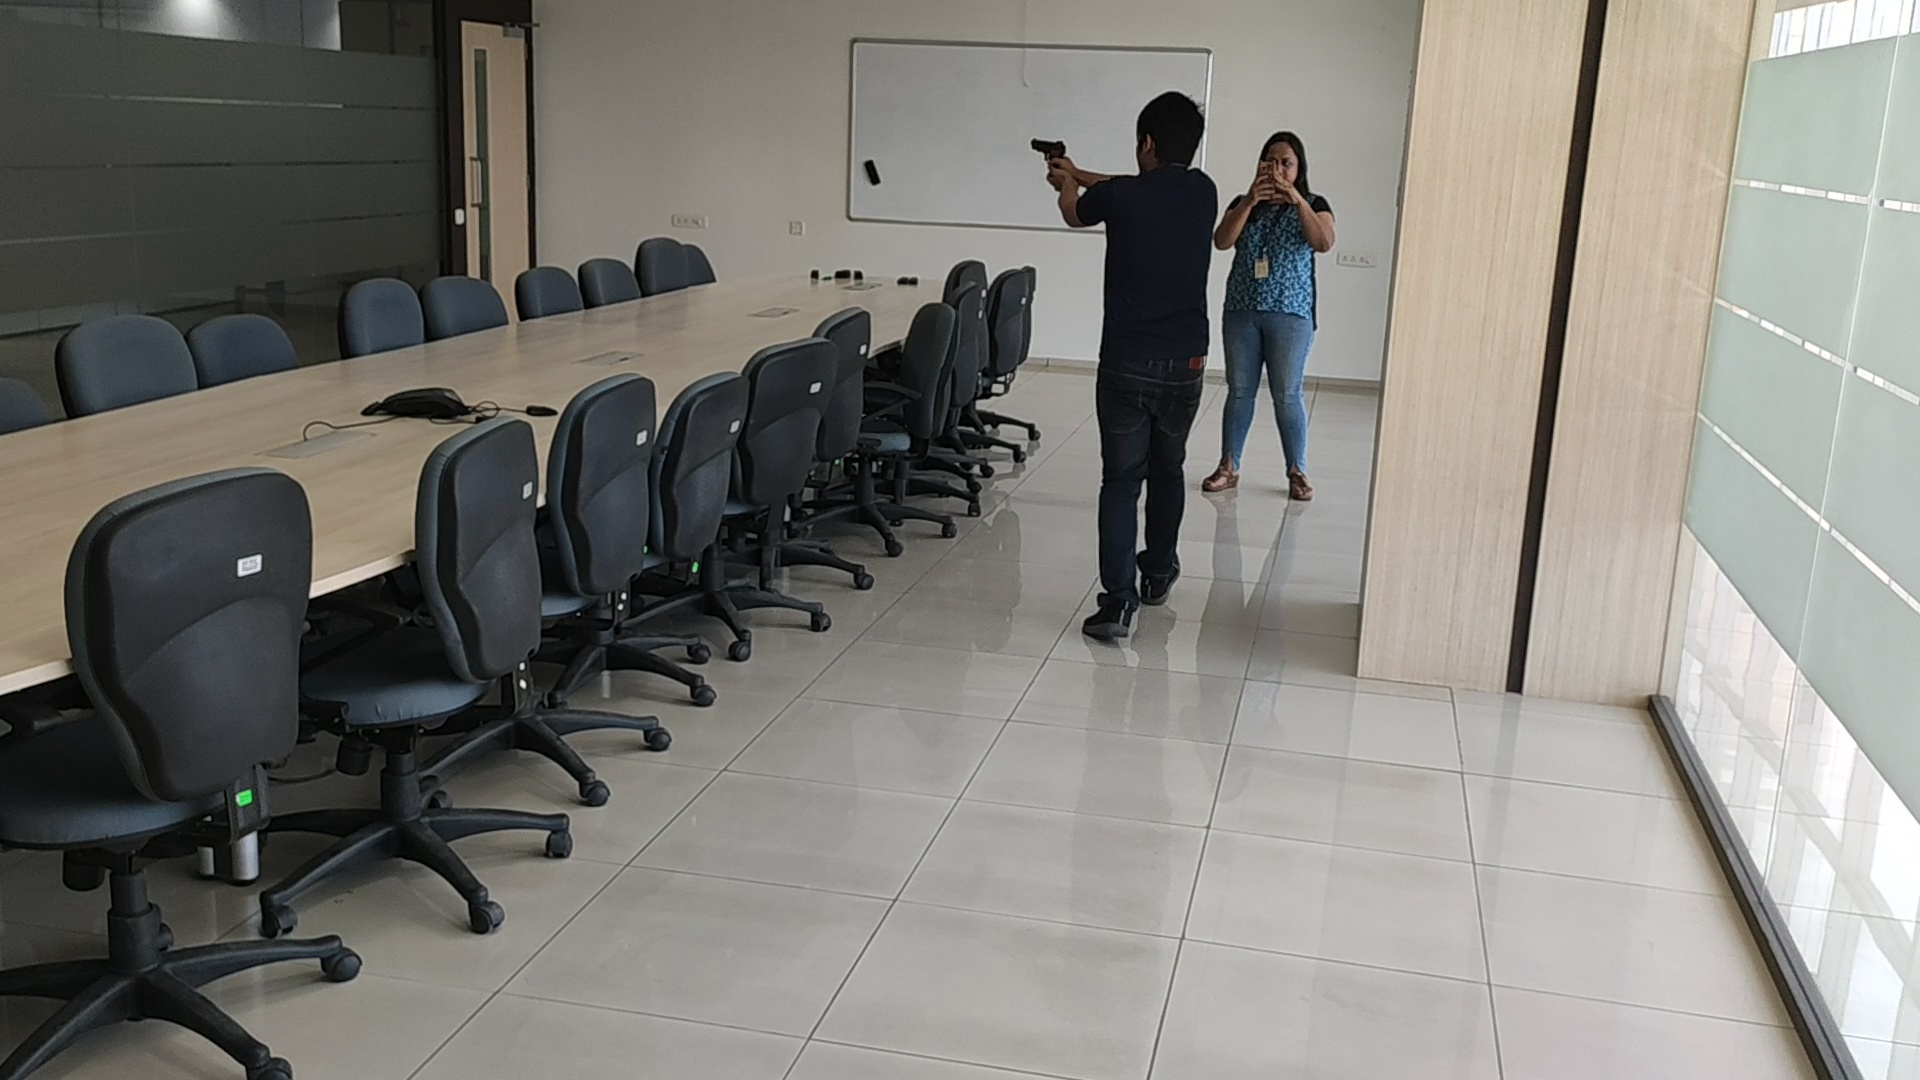gun: (1029, 137, 1065, 167)
